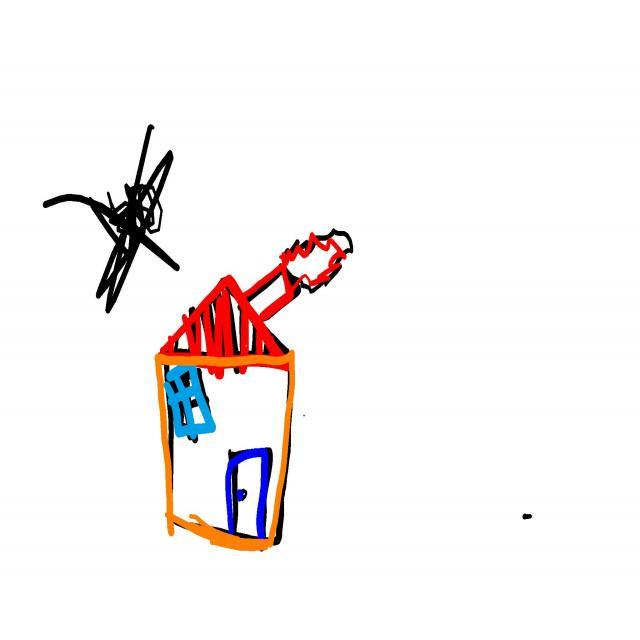chimney: (241, 266, 295, 320)
door: (225, 448, 272, 540)
house: (153, 264, 302, 556)
roof: (157, 274, 295, 361)
wall: (161, 358, 291, 546)
window: (164, 366, 216, 443)
